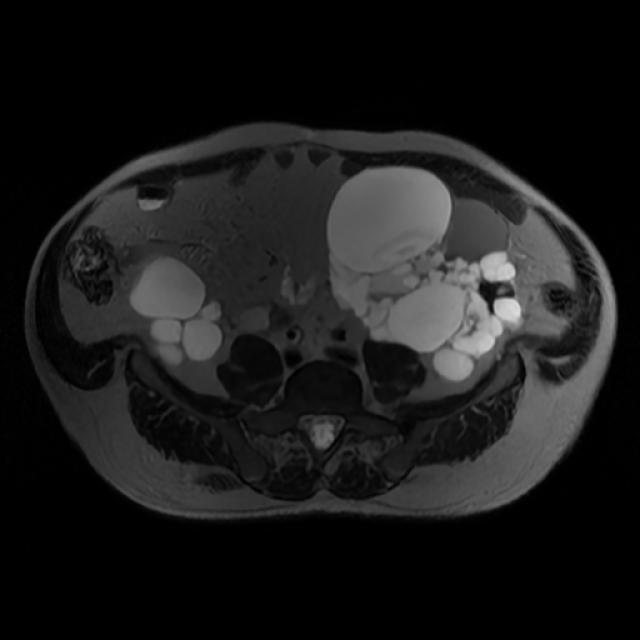sag: (132, 258, 222, 363)
sol: (325, 167, 521, 380)
